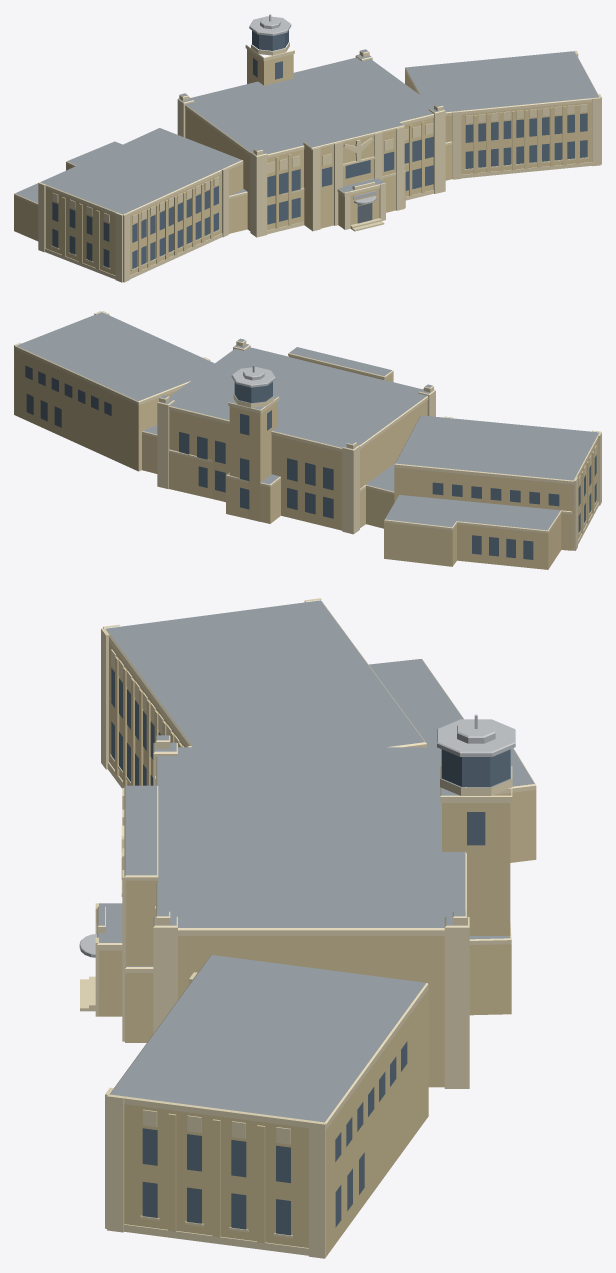
File: nola-lakefront-airport.glb
3 views of the same model, one above another, from view 1: azimuth 30°, elevation 25°; view 2: azimuth 150°, elevation 25°; view 3: azimuth 270°, elevation 25° (orthographic). The views are drawn at different scales.
Visible parts, largest first — view 1: New Orleans Lakefront Airport; view 2: New Orleans Lakefront Airport; view 3: New Orleans Lakefront Airport.
Boxes of the visible parts, left/top/right/bottom form: New Orleans Lakefront Airport: left=14, top=14, right=601, bottom=282; New Orleans Lakefront Airport: left=14, top=311, right=601, bottom=569; New Orleans Lakefront Airport: left=79, top=598, right=536, bottom=1258.
Size of the model in its own units: 95.06 by 23.7 by 34.88.
